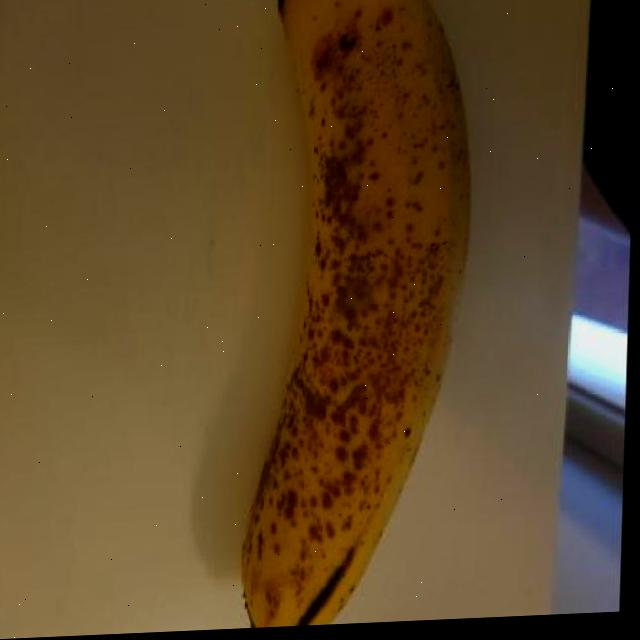banana: (225, 0, 484, 629)
